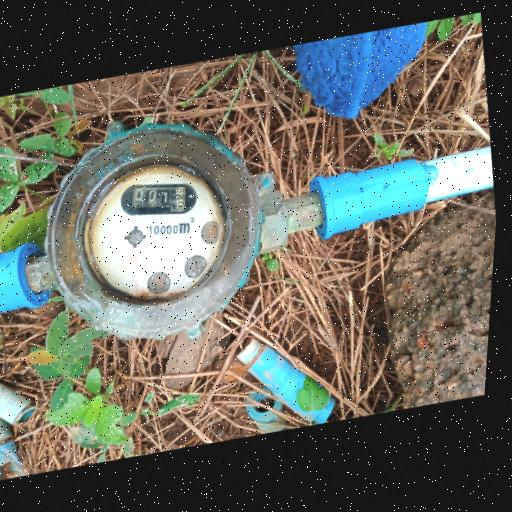0: (130, 186, 150, 210), (143, 185, 162, 209)
1: (154, 185, 175, 209)
4: (167, 184, 188, 213)
border_water_meter_number: (115, 172, 203, 228)
